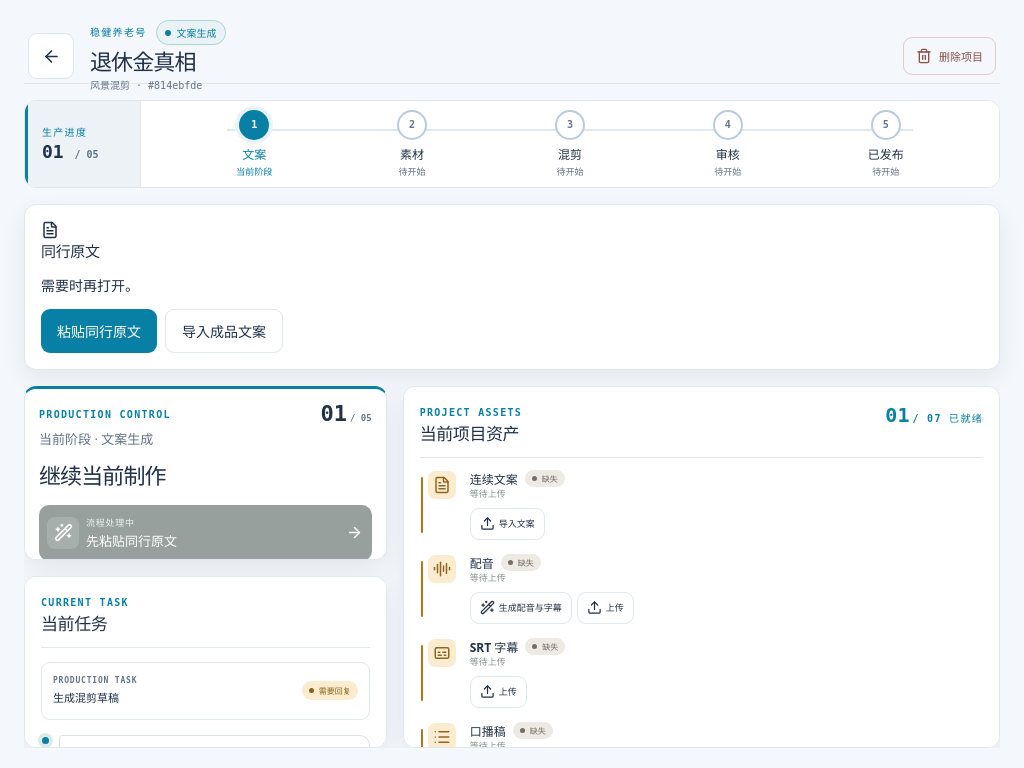
Test: keeps source entry compact and closes the dialog without saving
The image size is (1024, 768).
Click the button "粘贴同行原文" at point(99, 331), box top-left (41, 309), bottom-right (157, 353)
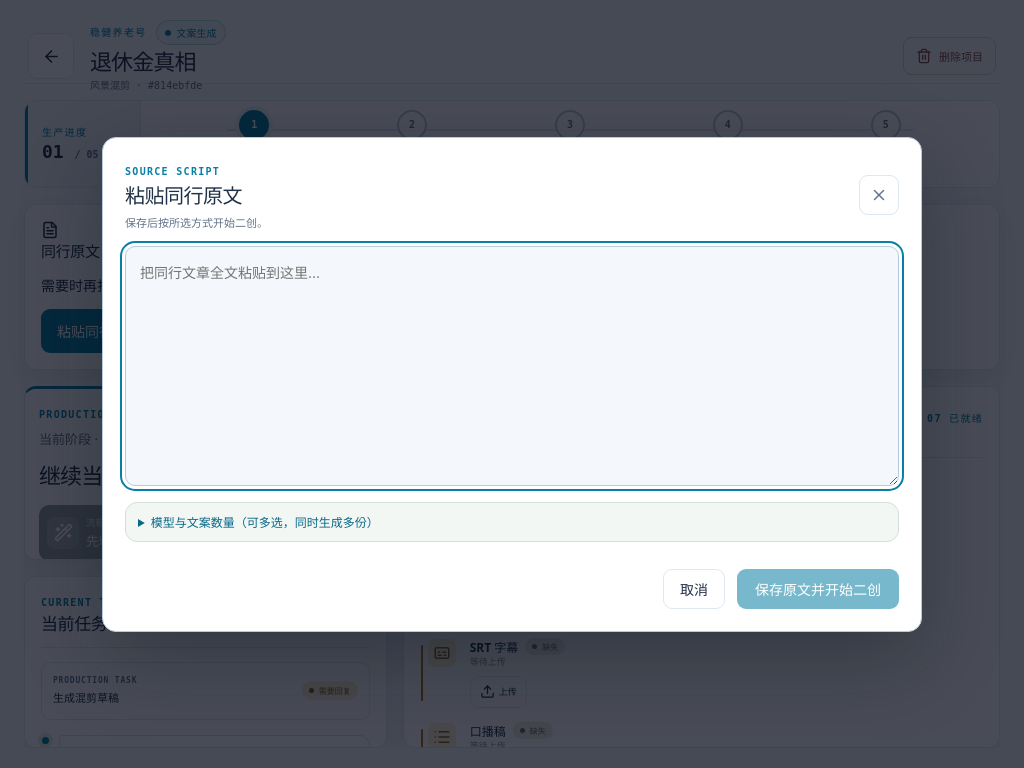
Type "不会保存" into the text box named "同行原文" at point(512, 366), box top-left (125, 246), bottom-right (899, 486)
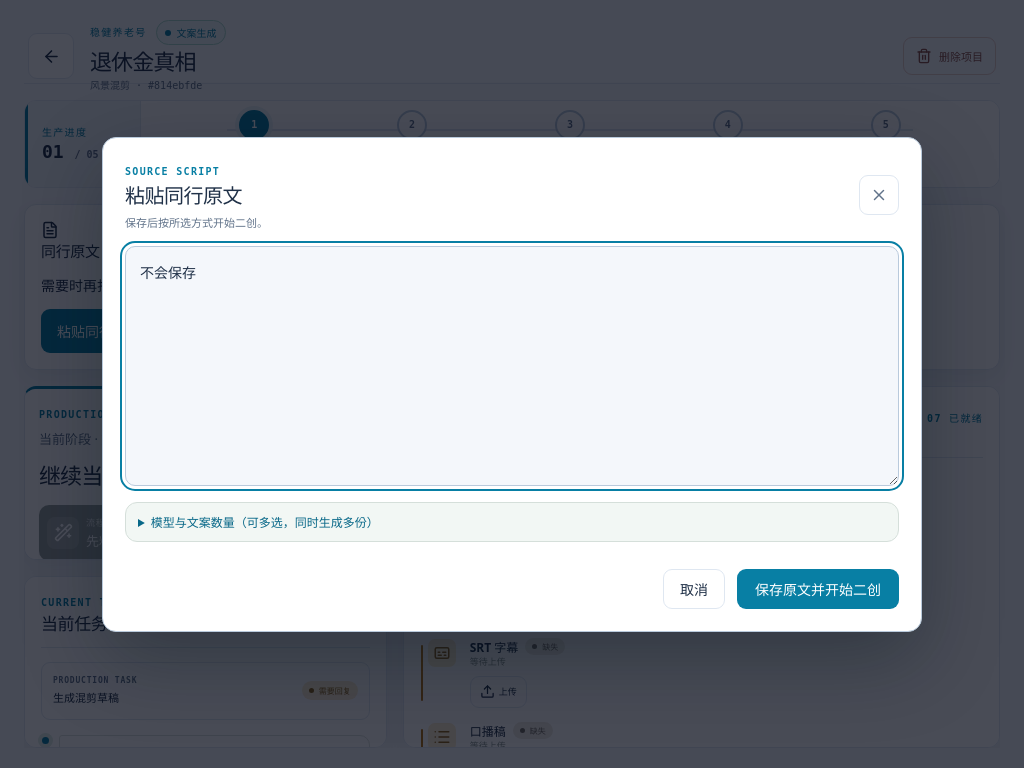
Click the button "取消" at point(694, 588), box top-left (663, 568), bottom-right (725, 608)
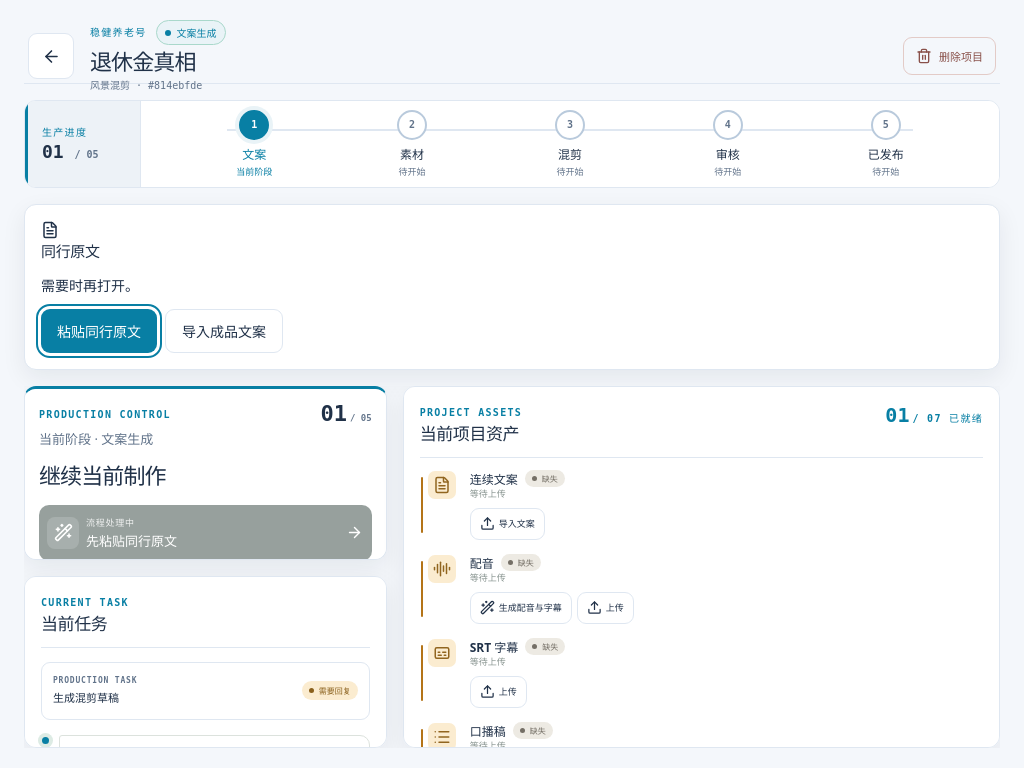
Expected: the dialog is gone
